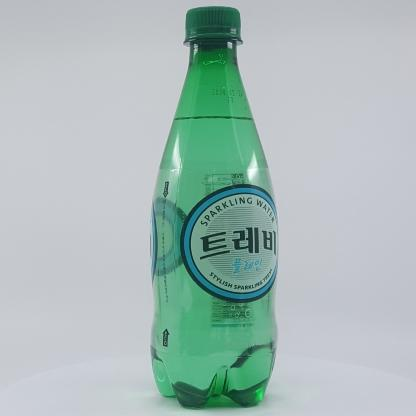---------PET-500ML: (150, 6, 279, 409)
